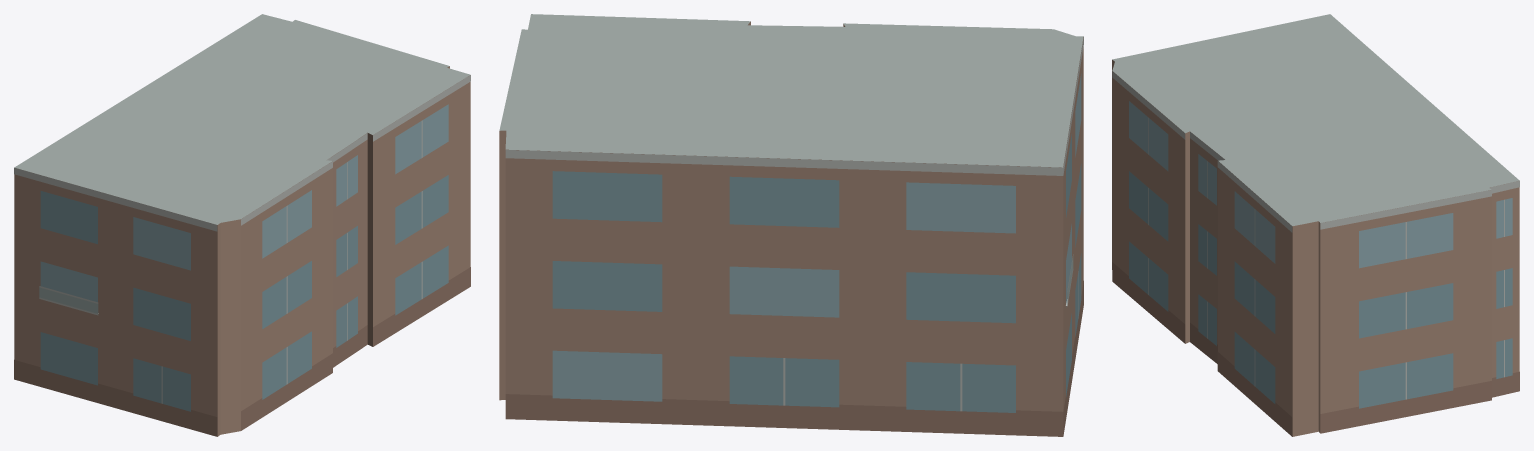
Rendered from survey-upis-32743513.glb.
3 renders of one model, left to right at view 1: azimuth 30°, elevation 25°; view 2: azimuth 150°, elevation 25°; view 3: azimuth 270°, elevation 25°, orthographic. The views are drawn at different scales.
Visible parts, largest first — view 1: survey-upis-32743513.tmp; view 2: survey-upis-32743513.tmp; view 3: survey-upis-32743513.tmp.
Part boxes in pixels (x1=…): survey-upis-32743513.tmp: x1=14, y1=14, x2=470, y2=436; survey-upis-32743513.tmp: x1=499, y1=14, x2=1083, y2=436; survey-upis-32743513.tmp: x1=1112, y1=14, x2=1519, y2=436.
Bounding box in the file's own units: 16.65 × 7.7 × 13.51.
